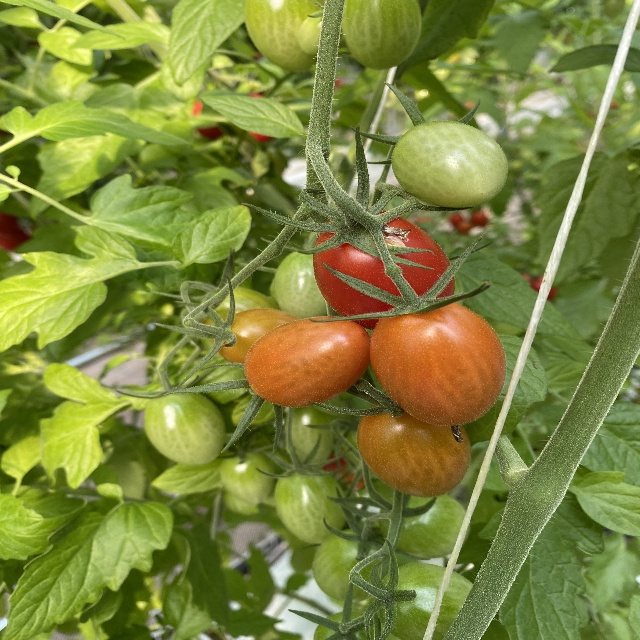l_fully_ripened: (313, 205, 455, 331)
l_green: (389, 120, 508, 208), (373, 562, 474, 640), (146, 386, 227, 465), (311, 527, 396, 602), (273, 465, 348, 544), (245, 0, 325, 72), (340, 0, 422, 70), (381, 494, 470, 557), (275, 247, 326, 320), (205, 287, 280, 334), (313, 610, 398, 639), (297, 10, 324, 54)
l_half_ripened: (369, 299, 507, 427), (243, 315, 371, 409), (356, 400, 471, 497), (214, 308, 298, 366)
